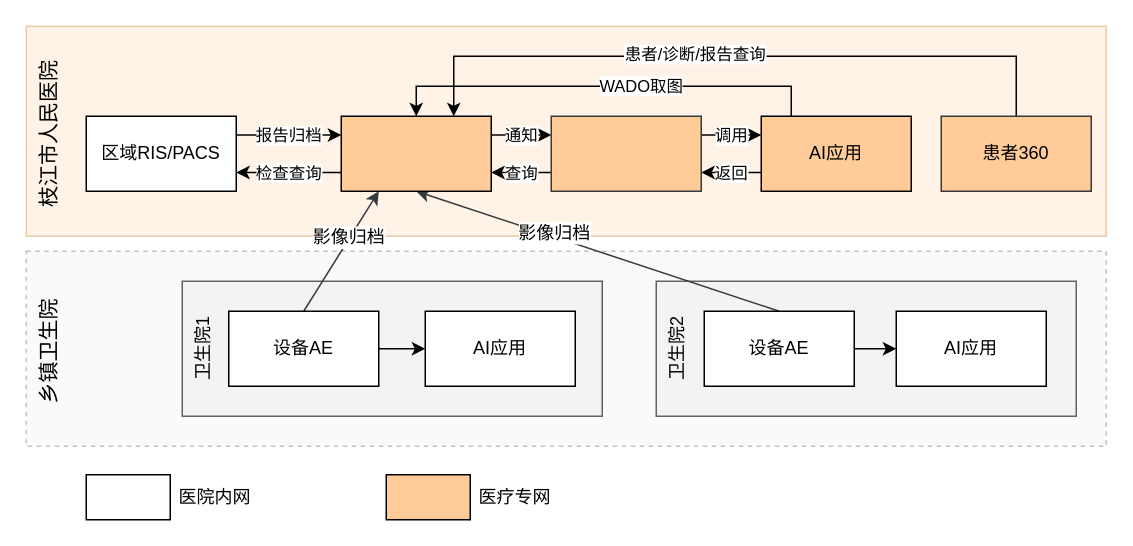
This 1133x546 diagram has some shape labels left out. Each missing label, with the box of its shape:
Cetus: (340, 115, 491, 191)
危急告警平台: (550, 115, 701, 191)
